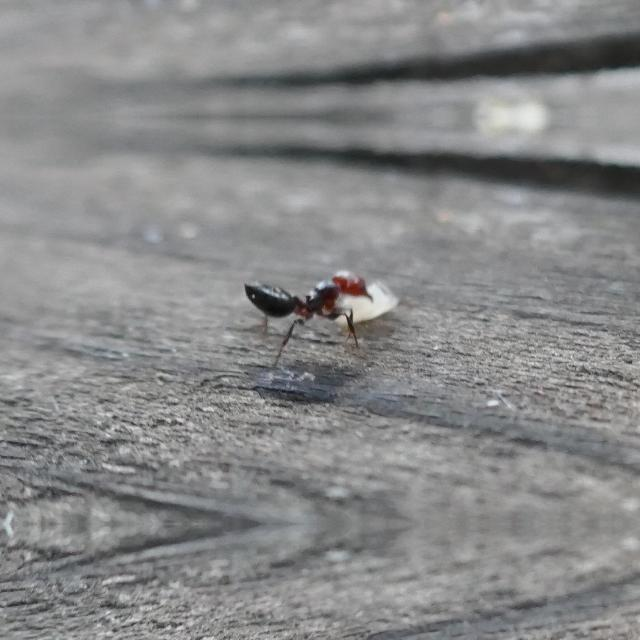Crematogaster: (247, 248, 373, 344)
